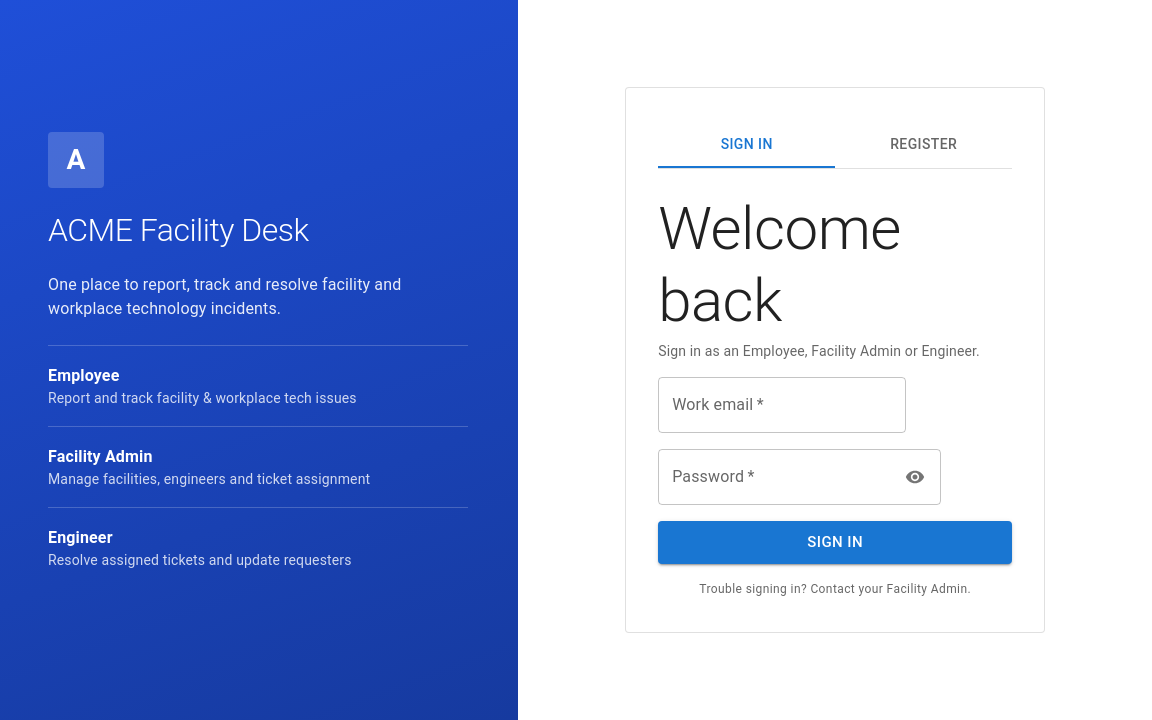
Scenario: Login page › shows the server error for bad credentials
In the field labelled "Work email *": [782, 405] box [658,377,906,433], type "emma@acme.inc"
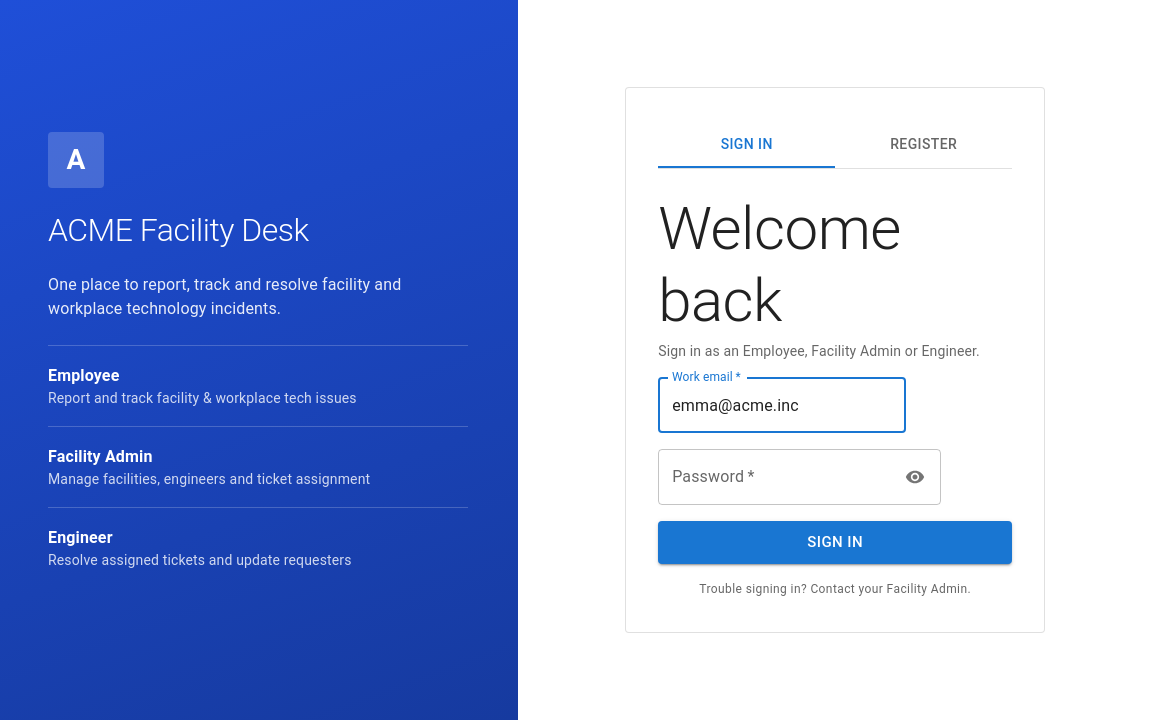
In the password field labelled "Password *": [775, 477] box [658,449,892,505], type "wrong-password"
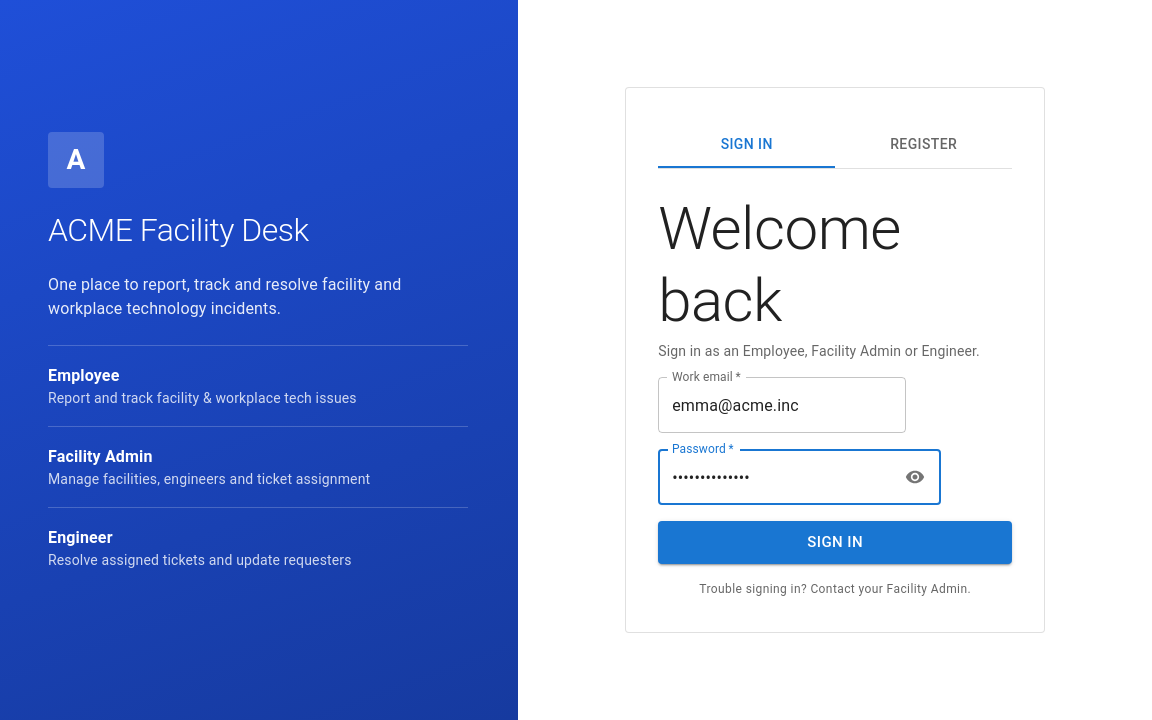
Click the button "Sign in": [835, 543] box [658,521,1012,564]
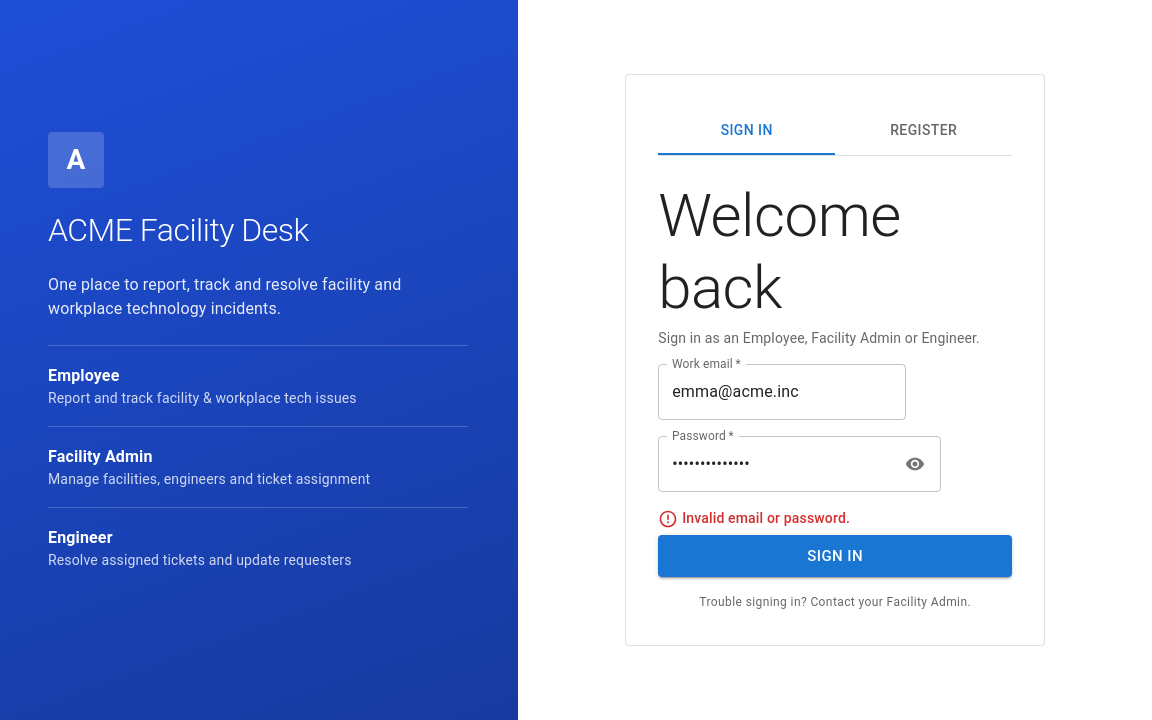
Expected: the button "Sign in" is enabled, [658,535,1012,577]
Result: the message reads "Invalid email or password." at [682,510,850,526]
